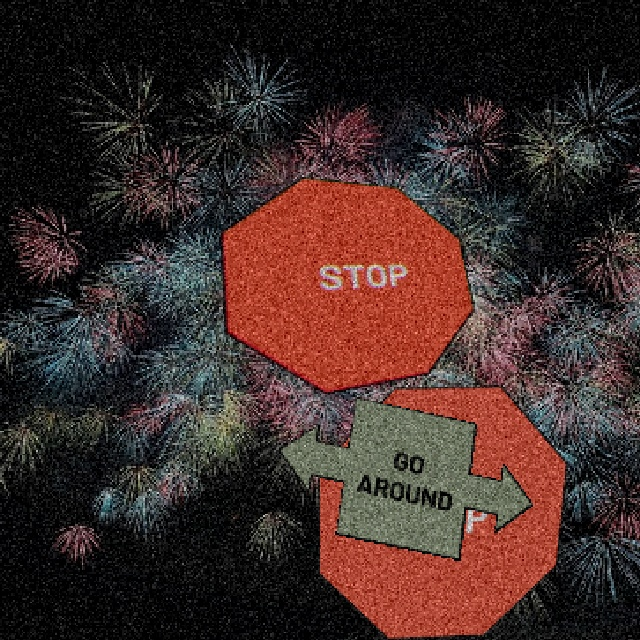GO_AROUND: (277, 395, 532, 559)
STOP: (316, 384, 567, 639), (218, 175, 473, 393)
